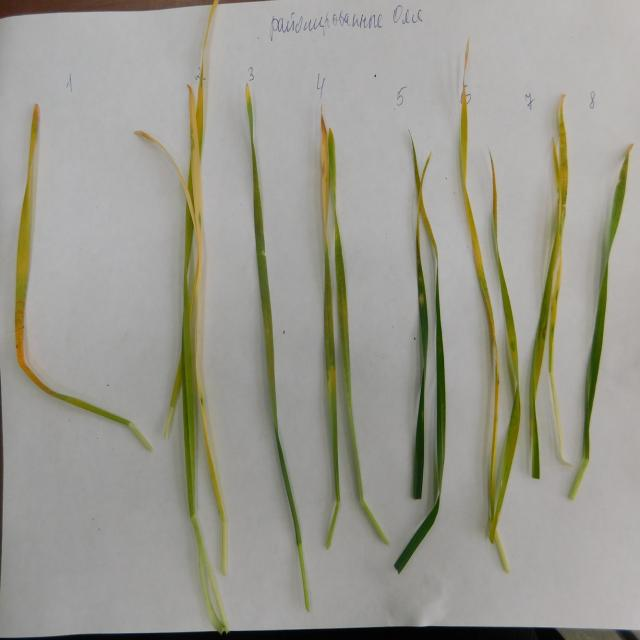wheat-yellowrust: (134, 130, 196, 234), (15, 301, 55, 395), (196, 0, 219, 158), (187, 85, 203, 298), (417, 151, 431, 256), (321, 105, 330, 248), (420, 193, 437, 265), (252, 141, 264, 243), (409, 130, 421, 194), (327, 365, 336, 388), (245, 83, 250, 105), (419, 293, 424, 306)
